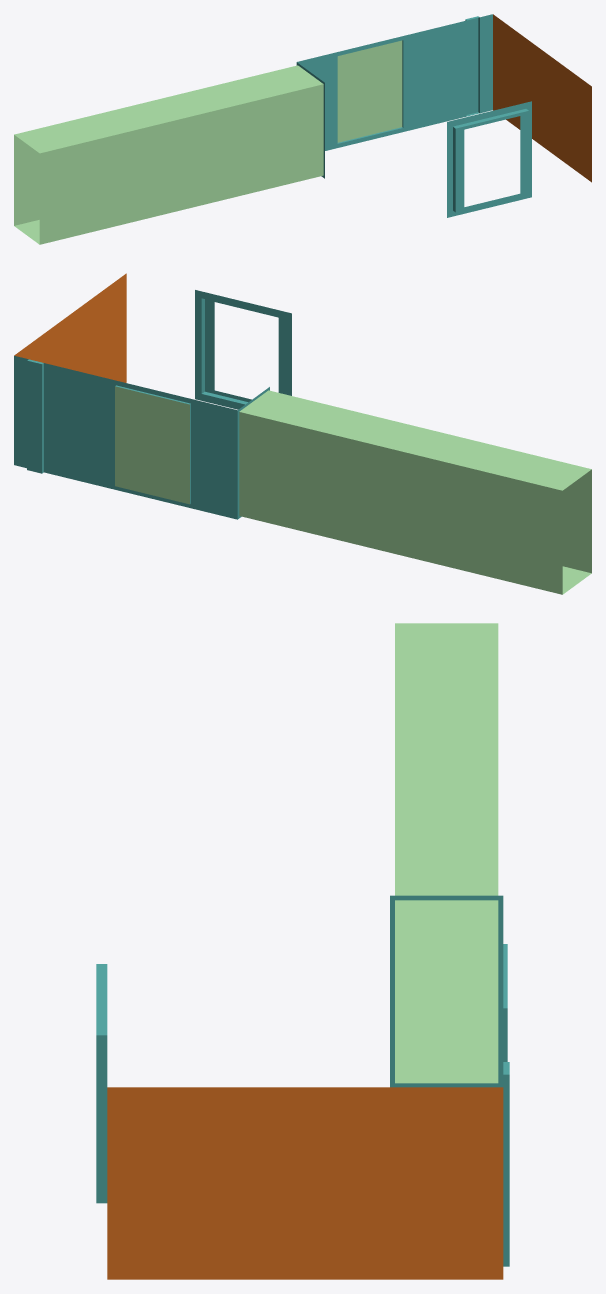
File: Paredes.fbx
3 renders of one model, top to bottom at view 1: azimuth 30°, elevation 25°; view 2: azimuth 150°, elevation 25°; view 3: azimuth 270°, elevation 25°, orthographic. The views are drawn at different scales.
Visible parts, largest first — view 1: Paredes; view 2: Paredes; view 3: Paredes.
Part boxes in pixels (bbox=[...]): Paredes: bbox=[14, 14, 591, 244]; Paredes: bbox=[14, 273, 591, 594]; Paredes: bbox=[96, 623, 509, 1279].
Bounding box in the file's own units: 1379 × 264 × 514.
